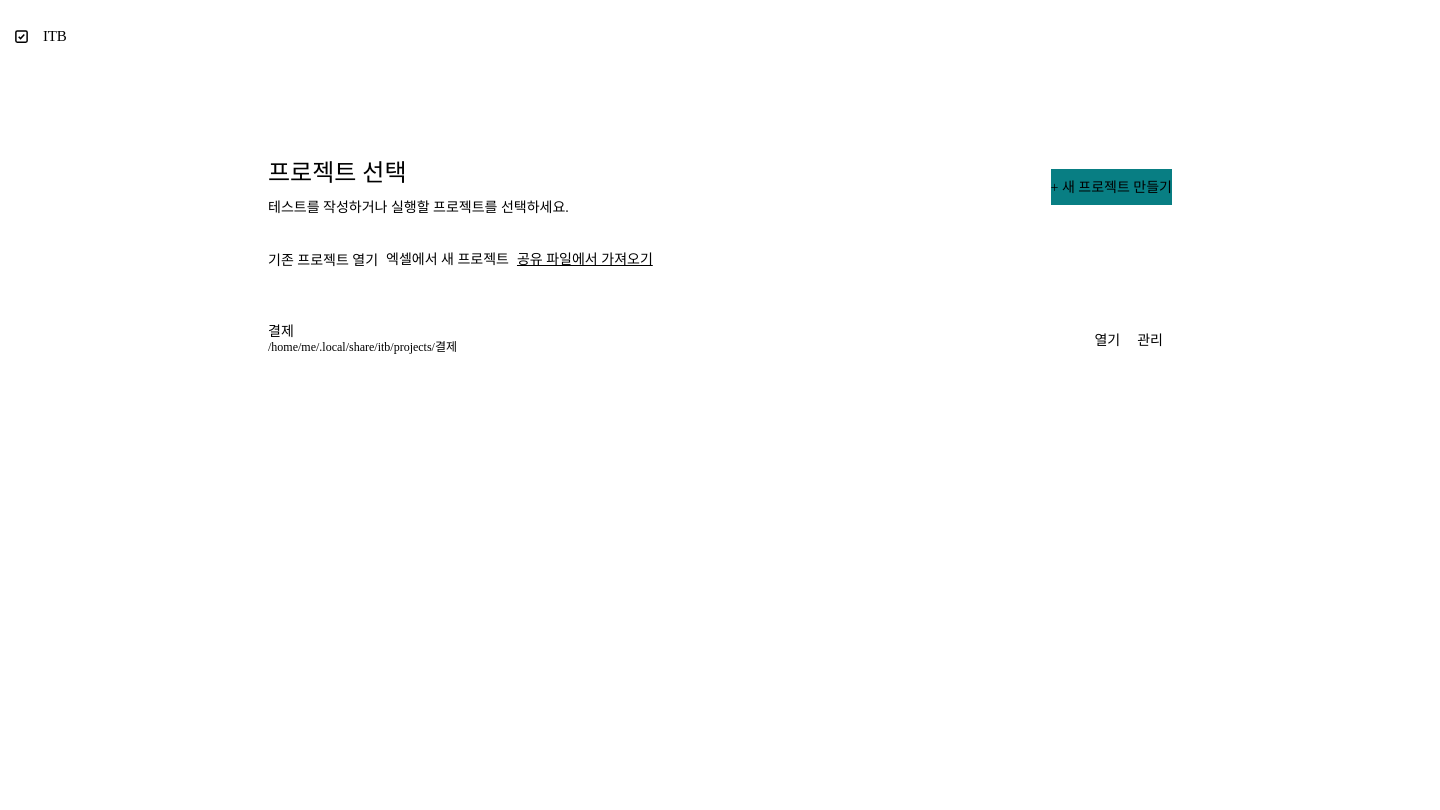
Test: 이름 인라인 편집 (US1) › 확인 창 없이 두 조작으로 끝난다 (SC-614)
Click the button "관리".
click(1150, 340)  # box [1128,322,1172,358]
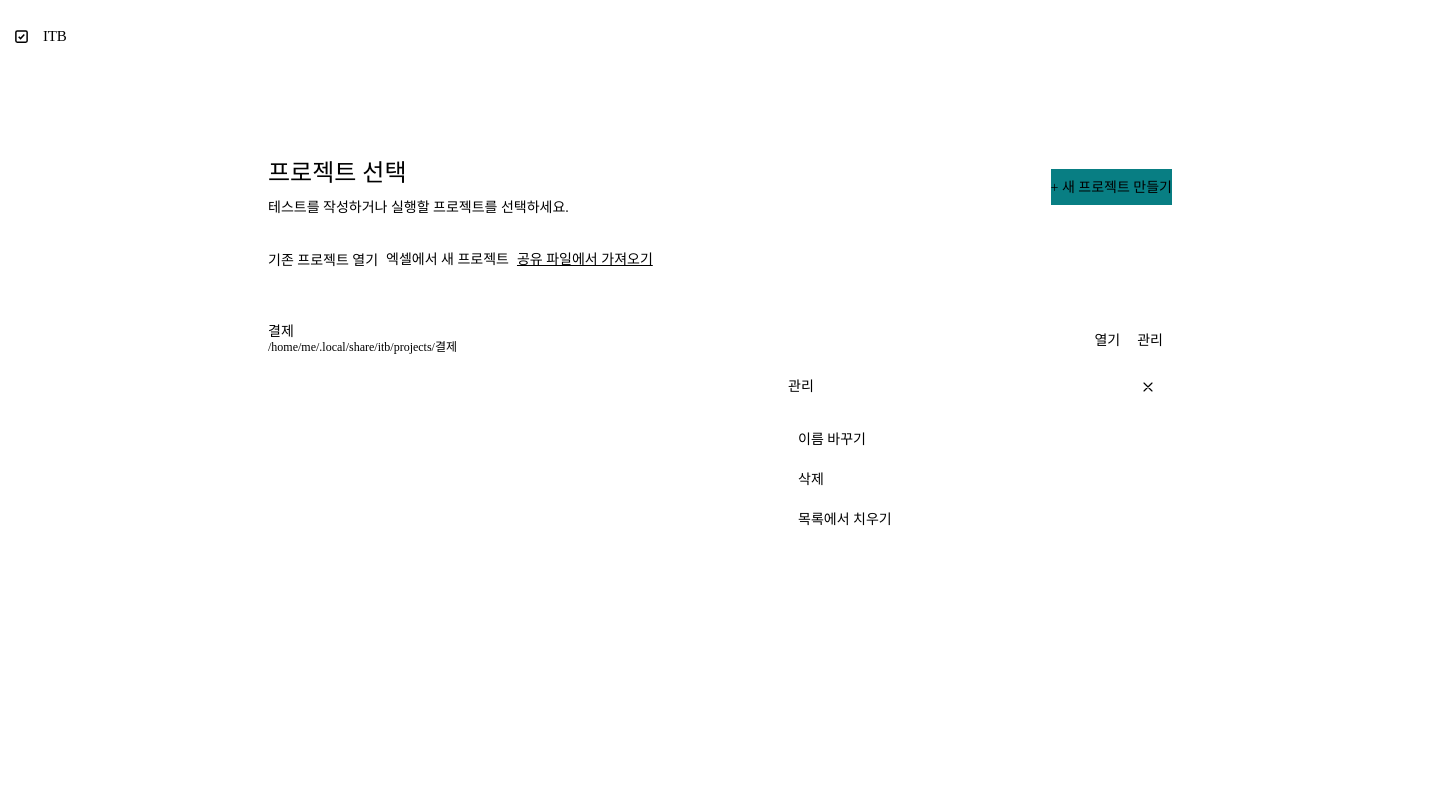
Click the button "이름 바꾸기".
click(832, 439)  # box [788,425,1156,453]
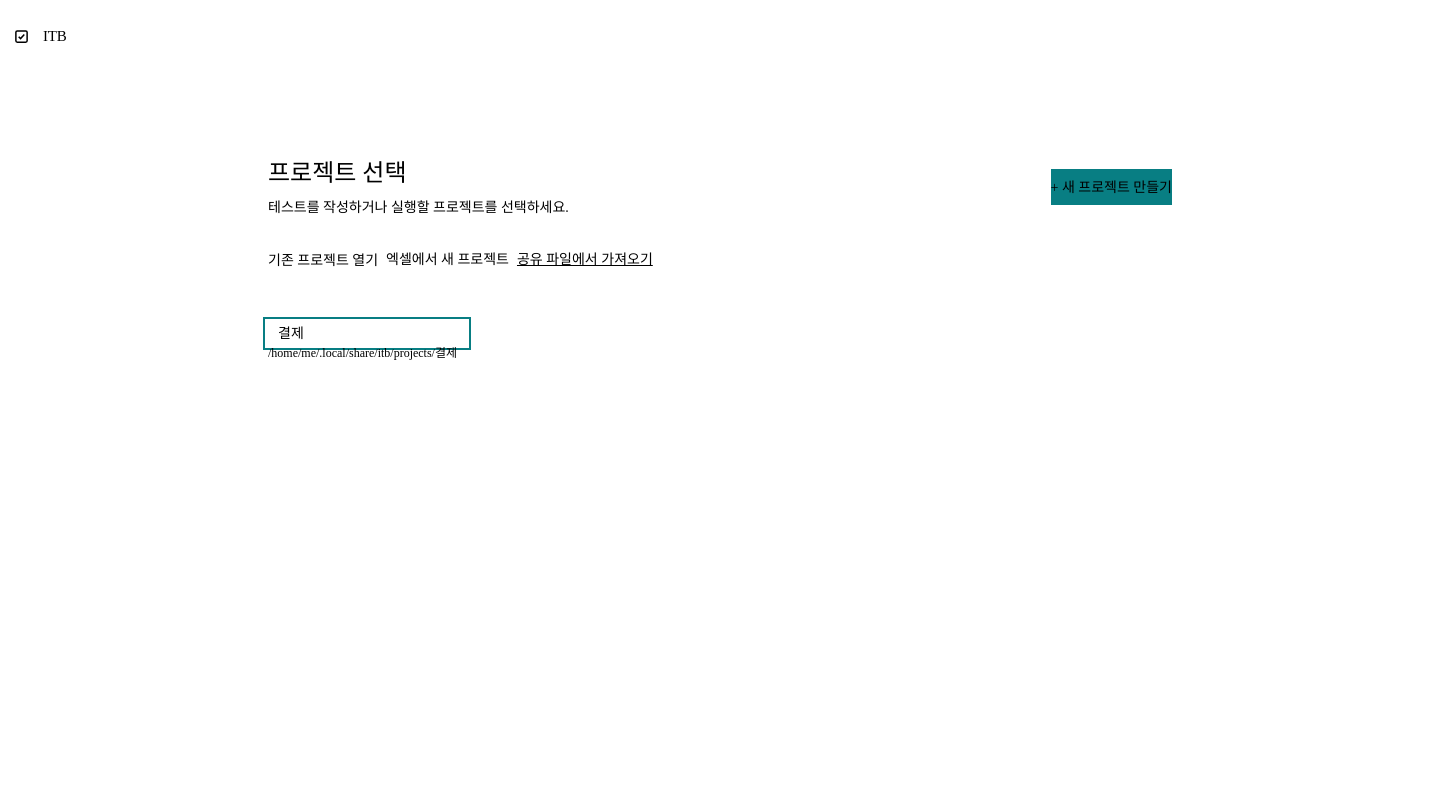
Replace the text in the field named "프로젝트 이름" with "결제 회귀" at [367, 334], box [268,322,466,345]
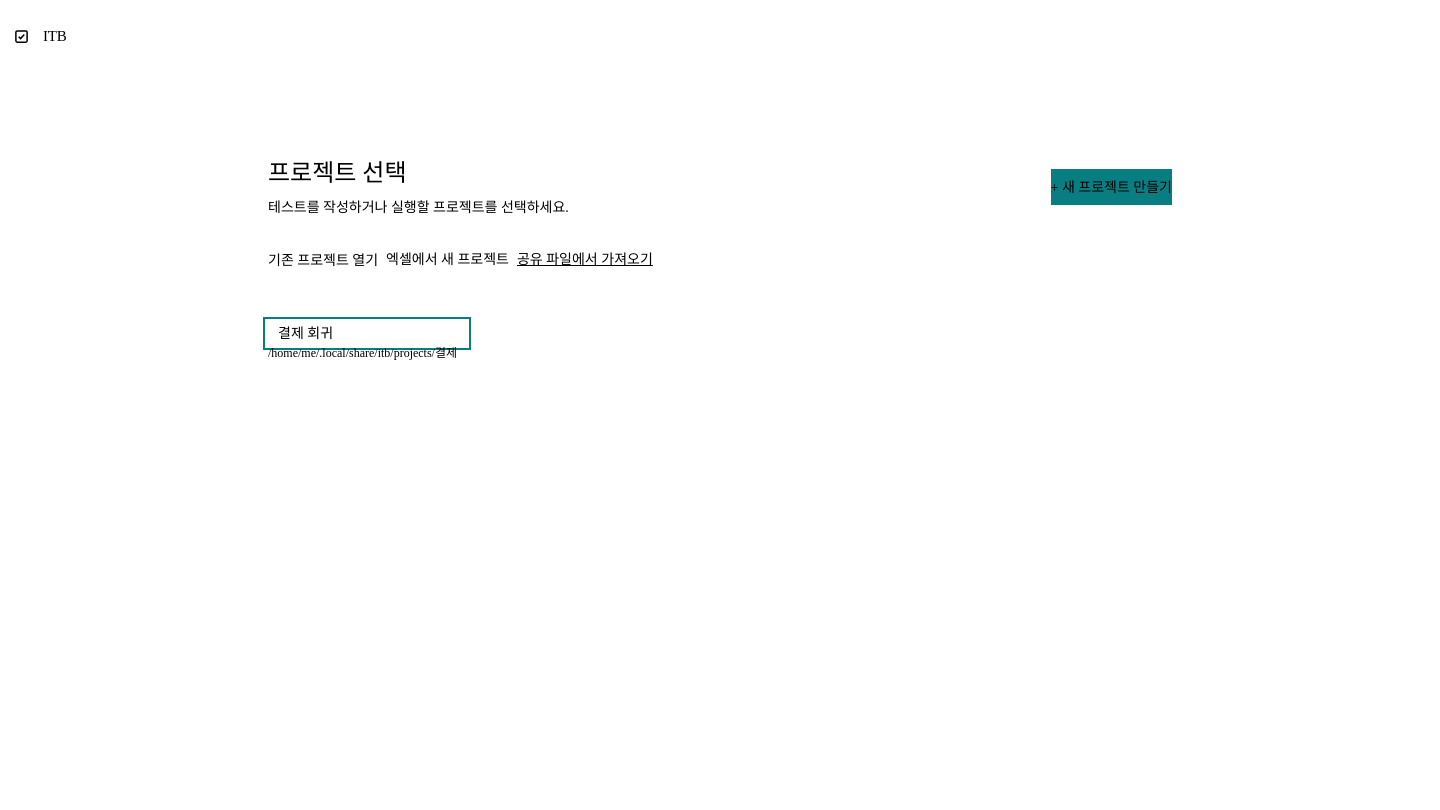
Press Enter in the field named "프로젝트 이름", box [268,322,466,345]
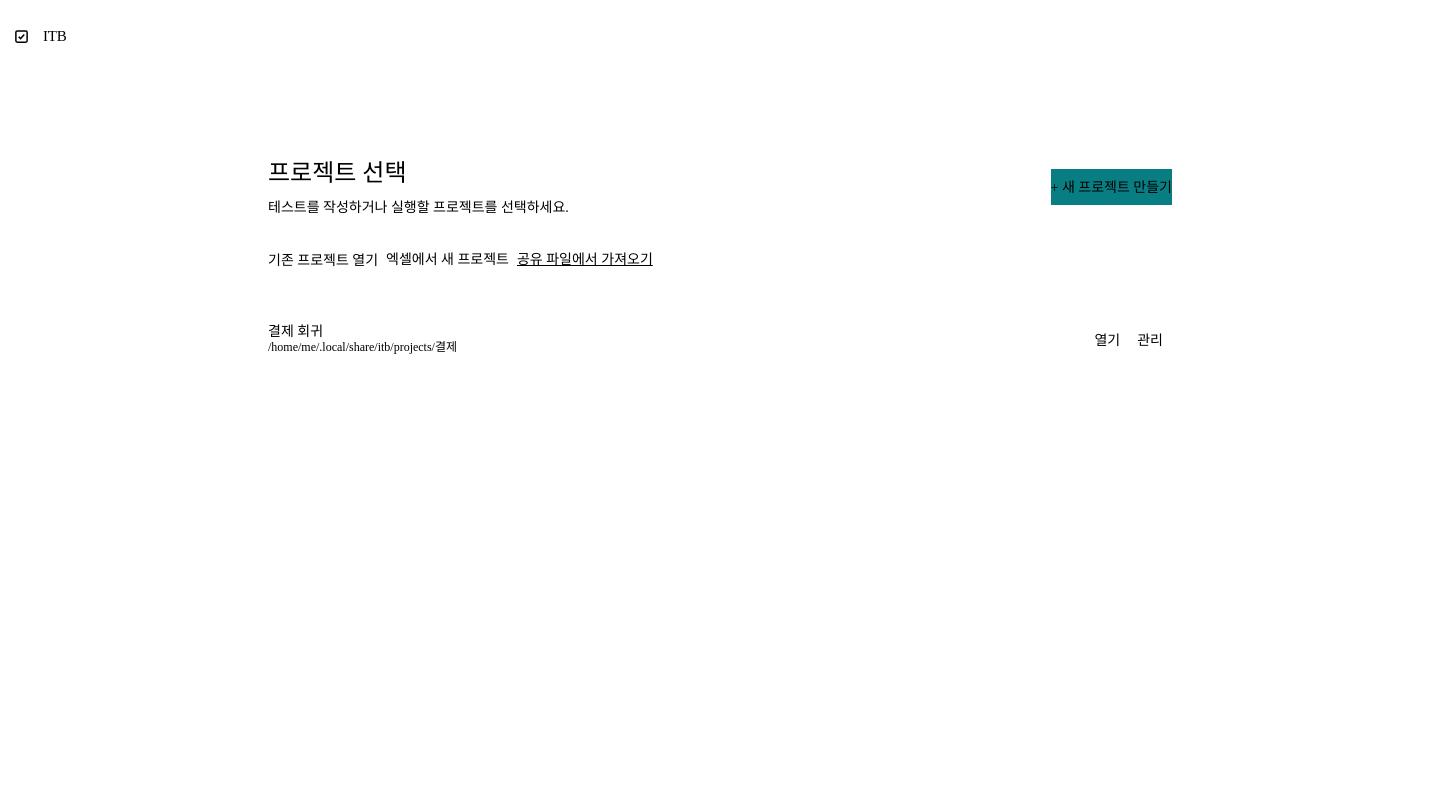
Expected: the text "결제 회귀" is shown, [268,325,323,339]
